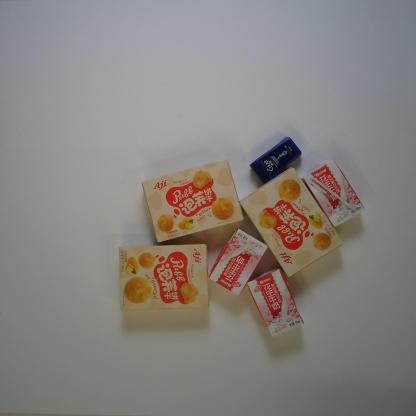Dessert: (238, 166, 343, 278), (141, 159, 244, 243), (119, 244, 209, 311)
Milk: (302, 158, 364, 228), (208, 228, 268, 297), (247, 268, 304, 338)
Personal Hygiene: (249, 136, 302, 184)
